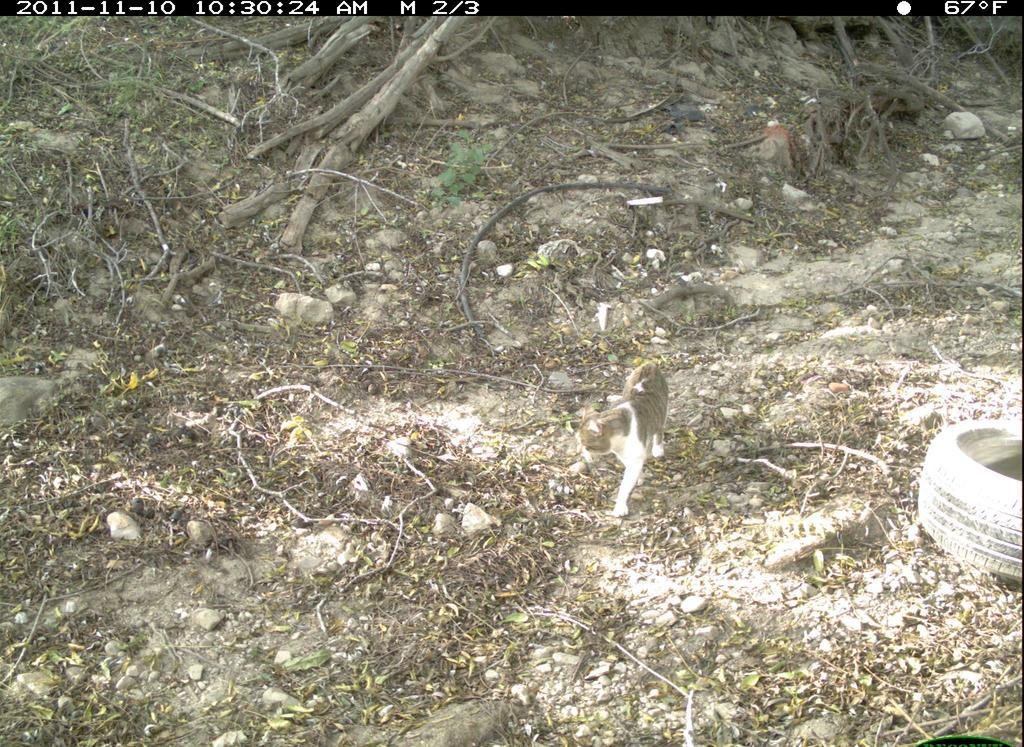cat: (574, 355, 674, 525)
